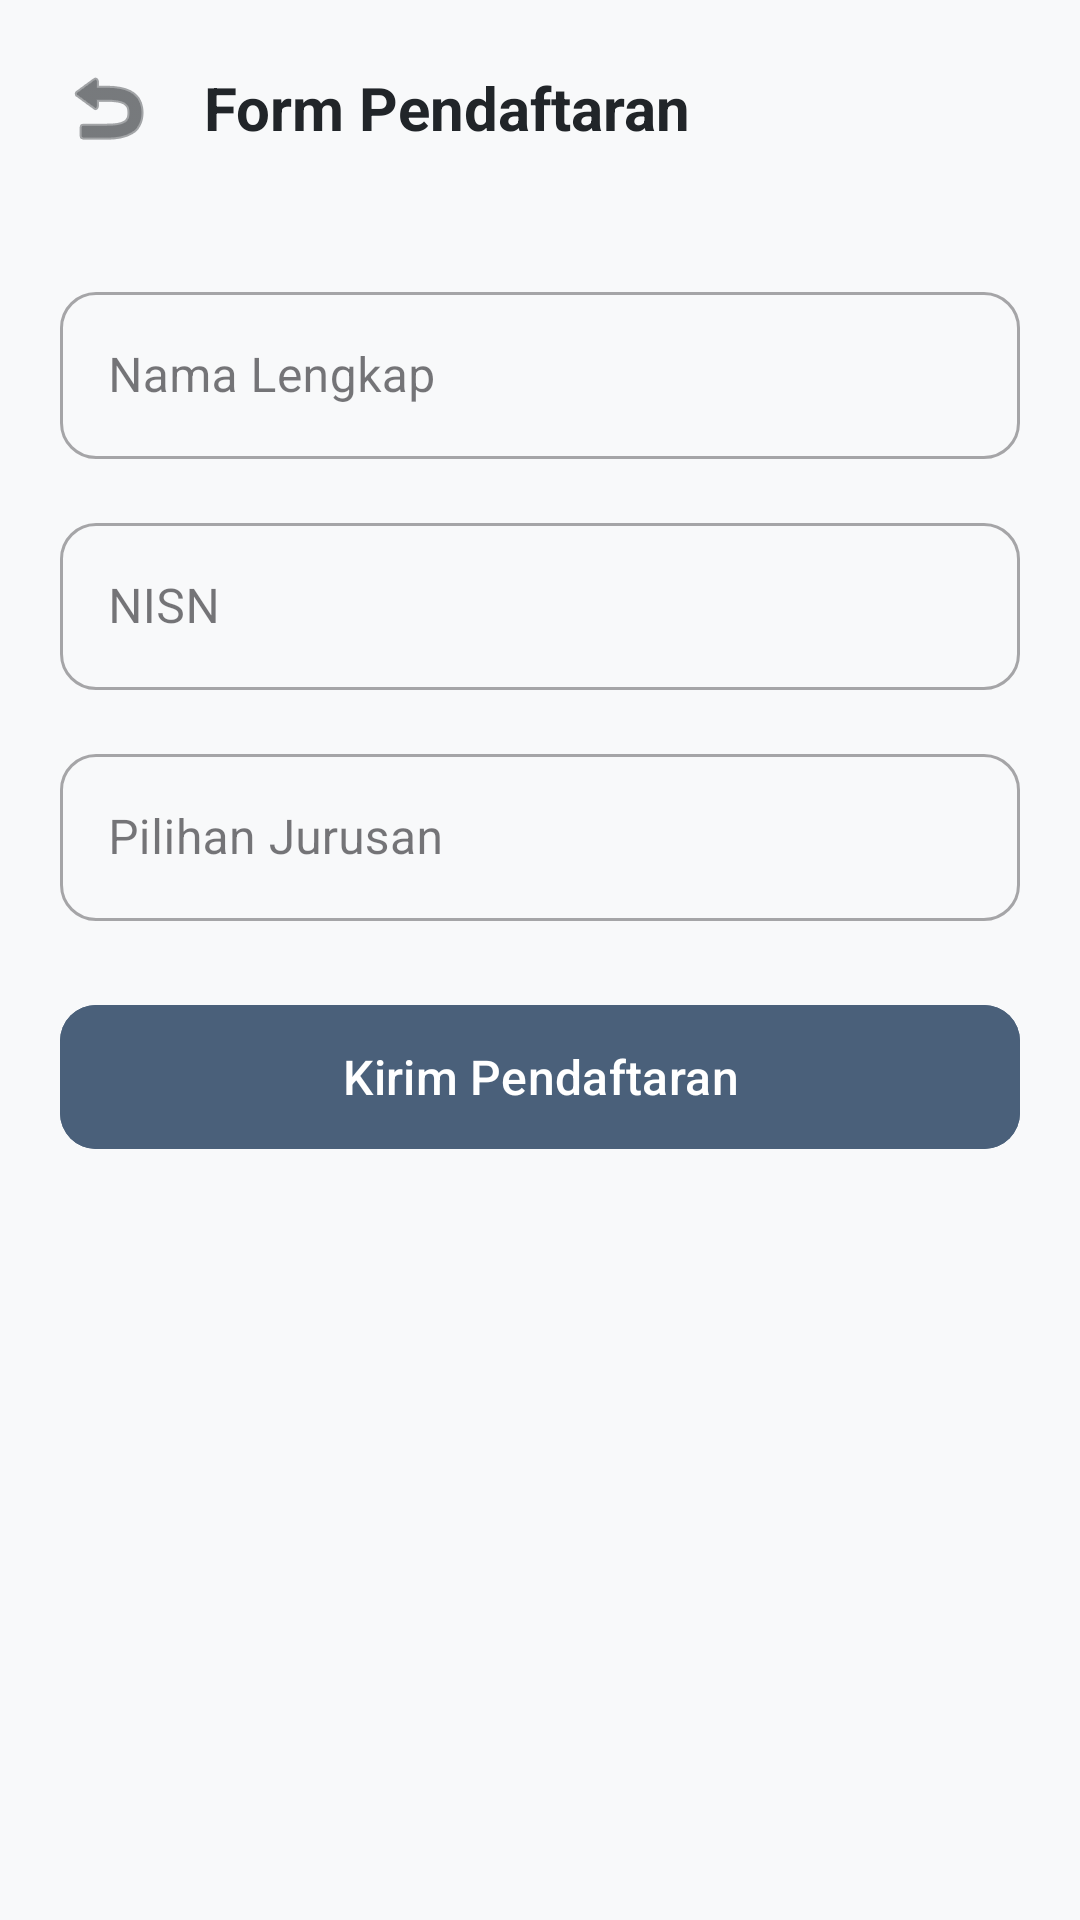

Named icons in this screenshot (1080px x 1920px) and their centers, (x=x, y=y):
revert: (x=109, y=108)
